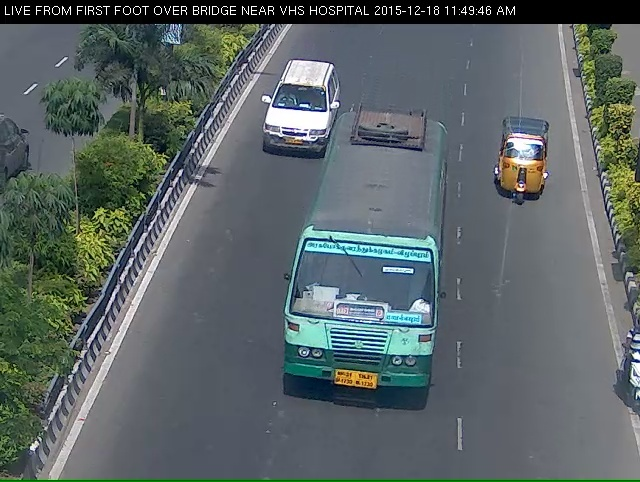Auto: (490, 119, 558, 224)
Bus: (279, 122, 453, 436)
Car: (255, 65, 321, 167)
